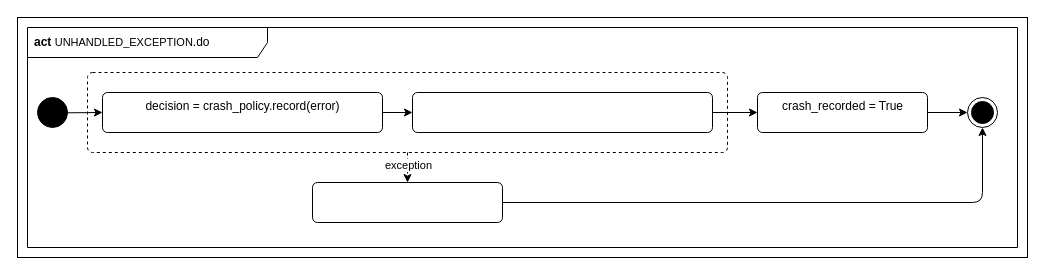
Some shapes in this 1045 by 275 pixel diagram are drawn without their labels. Here are the shapes that lost their labels. From the top down, the box of each, then its label:
(412, 92, 712, 132): crash_policy.write_report(decision, error)
(312, 182, 502, 222): crash_recorded = False
